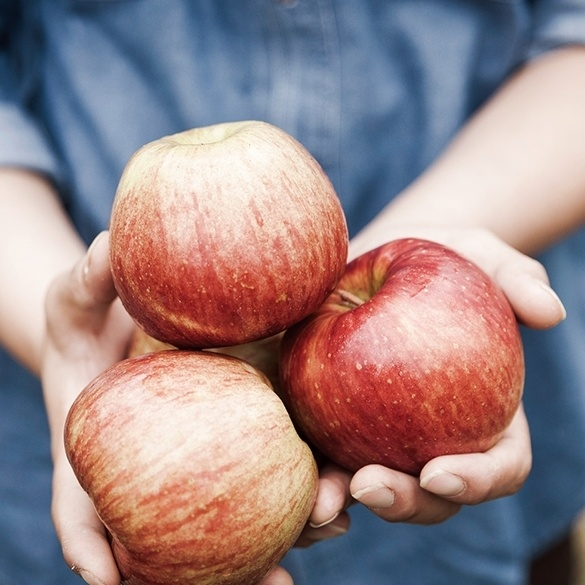apple: (278, 241, 523, 500), (65, 351, 318, 585), (103, 117, 347, 343)
